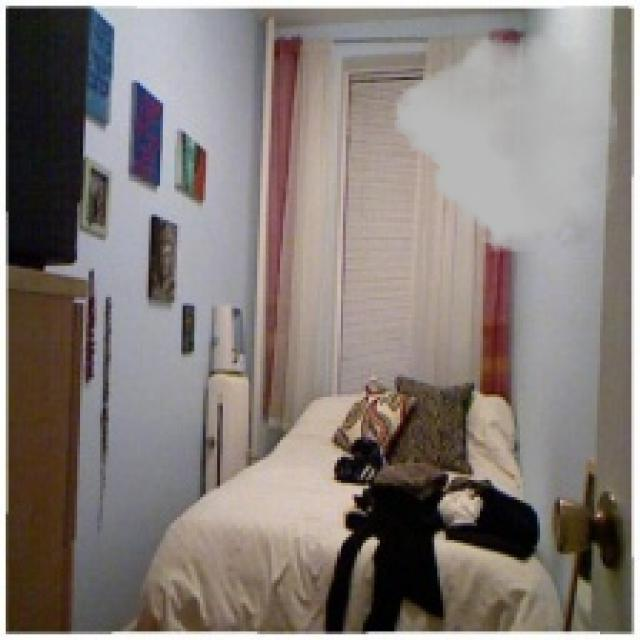Smoke: (394, 6, 617, 258)
